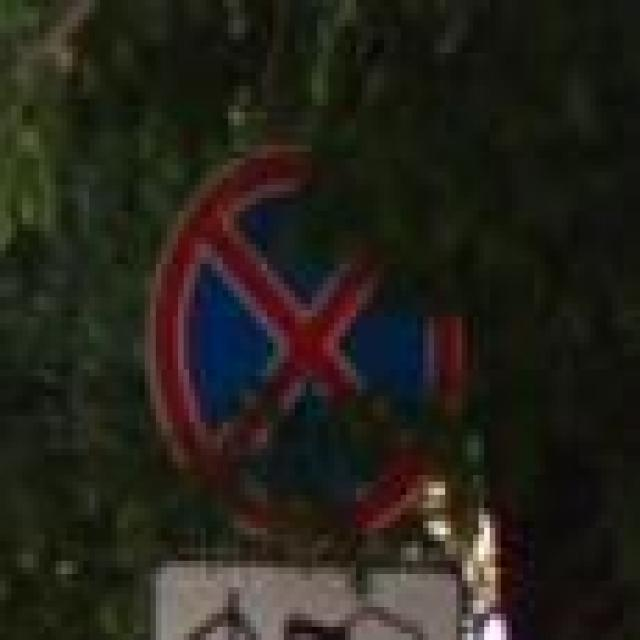traffic_sign: (145, 138, 462, 548)
